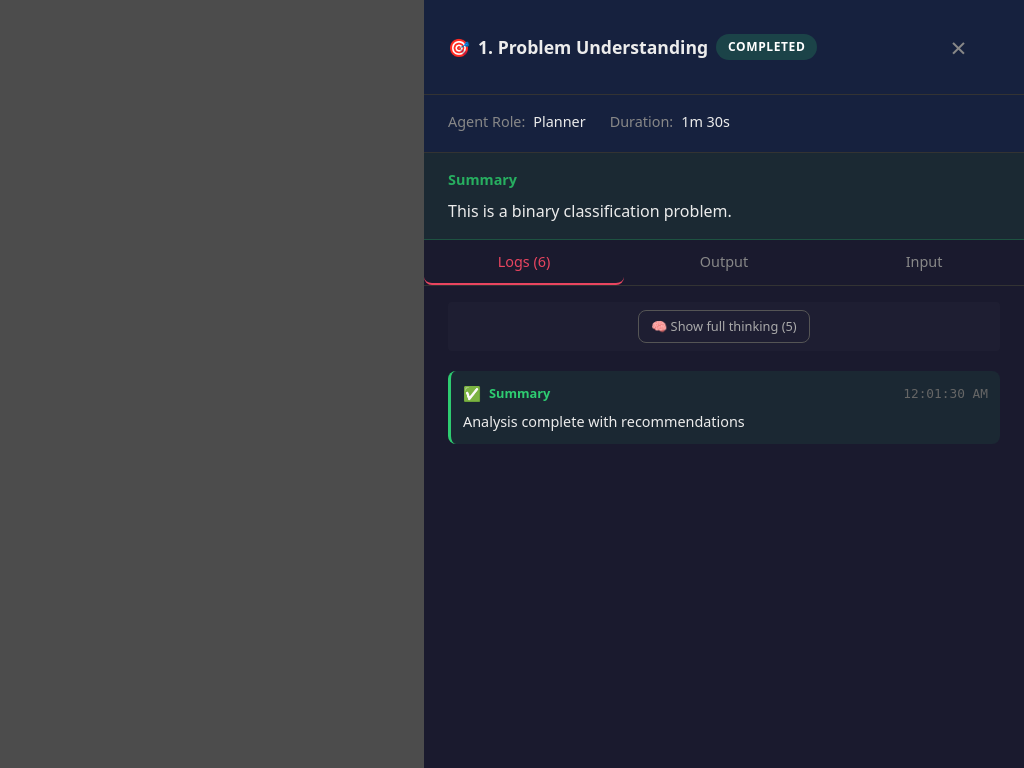
Scenario: AgentStepDrawer - Rich Log Types › hides thinking logs when Hide thinking is clicked
The image size is (1024, 768).
# Show thinking
Click the button "🧠 Show full thinking (5)" at (724, 326), box x1=638 y1=310 x2=810 y2=343
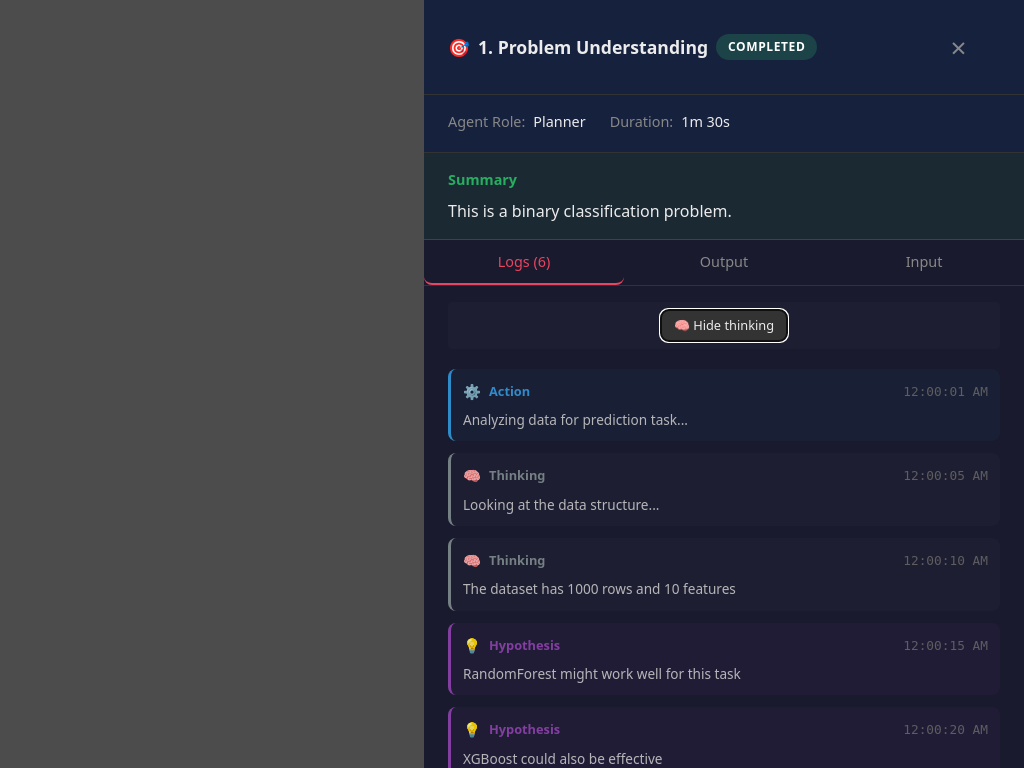
expect the text "Looking at the data structure..." is shown: met, box x1=463 y1=495 x2=660 y2=514
# Hide thinking
Click the button "🧠 Hide thinking" at (724, 325), box x1=661 y1=310 x2=787 y2=341
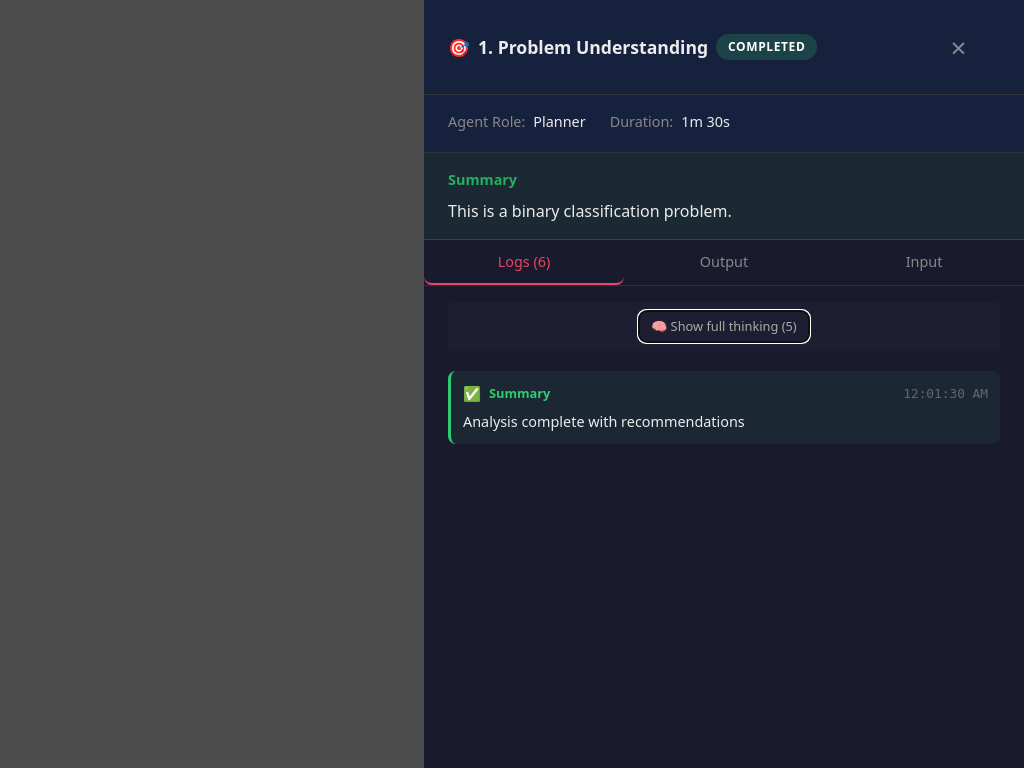
expect the text "Looking at the data structure..." is gone: met
